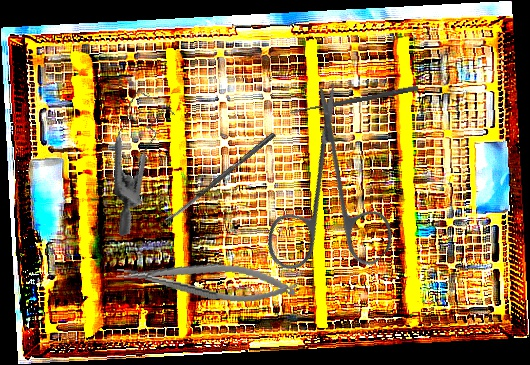Iris Scissors: (211, 78, 446, 314)
Needle Holder: (114, 248, 298, 312)
Speculum: (75, 82, 208, 237)
Surgical Spoon: (162, 131, 277, 225), (289, 84, 419, 116)
